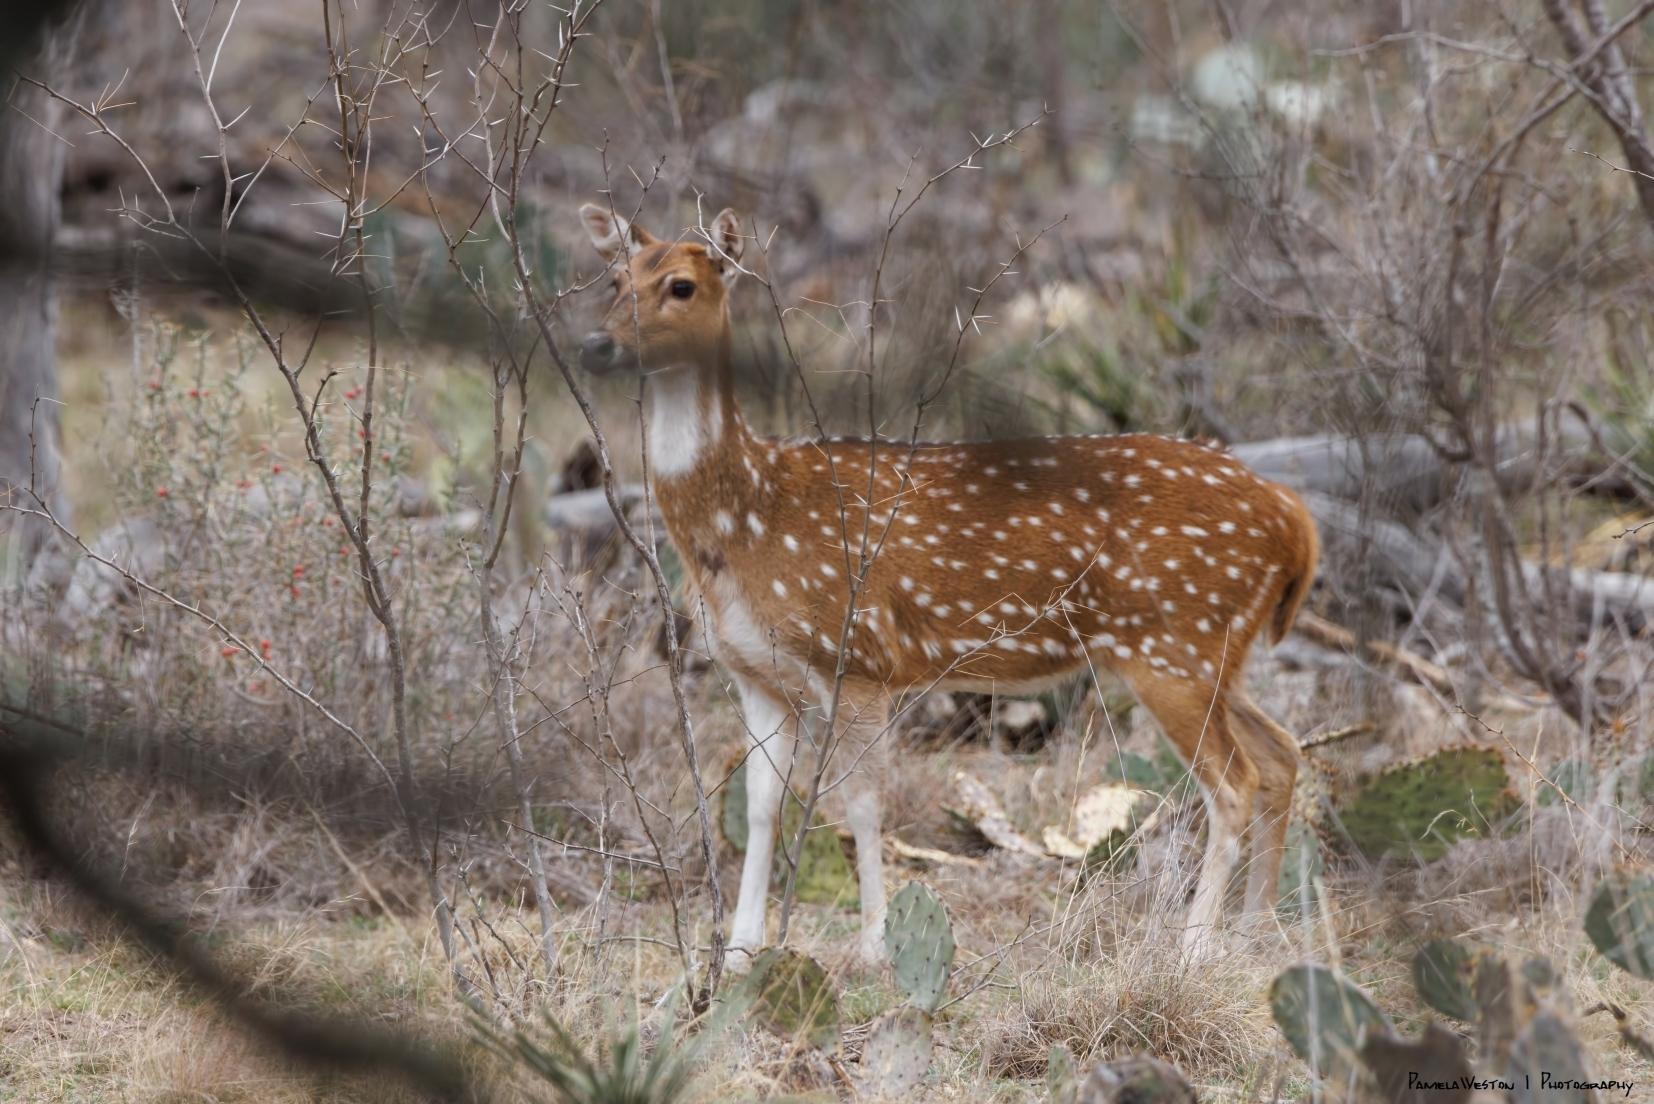Deer: (579, 205, 1319, 966)
